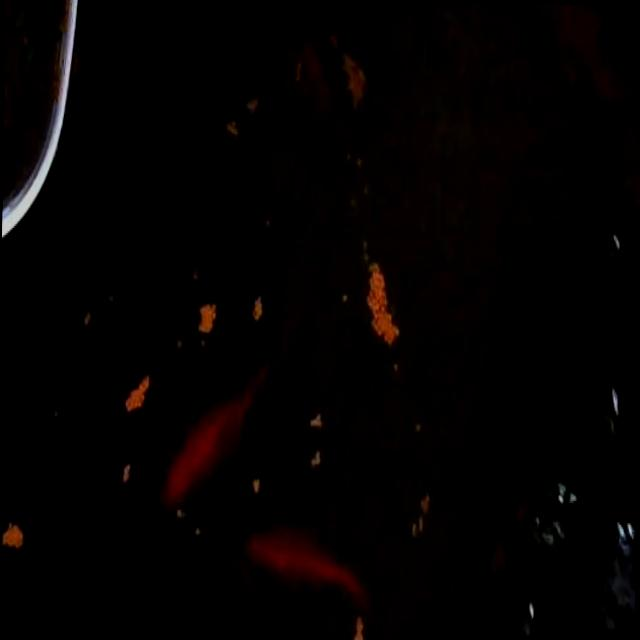fish: (162, 316, 308, 514), (211, 501, 385, 640), (96, 329, 150, 546), (198, 204, 250, 362), (287, 18, 346, 132), (211, 0, 263, 57)
